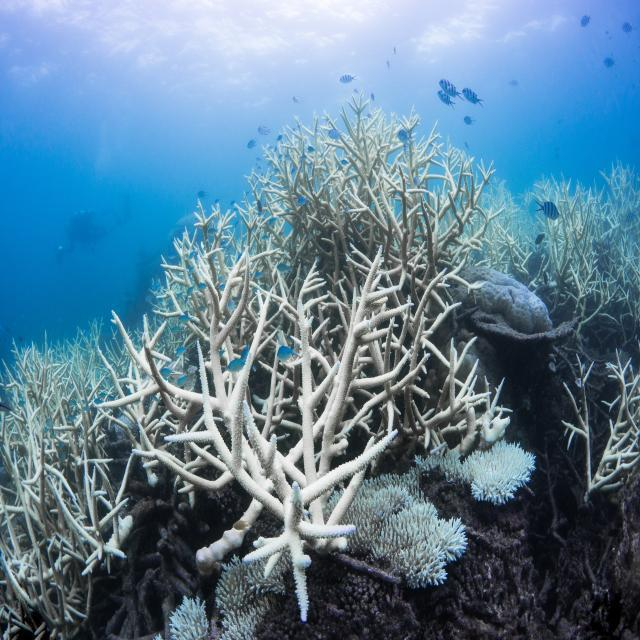Bleached Coral: (278, 118, 484, 416), (166, 258, 355, 571), (7, 360, 131, 635), (367, 458, 454, 590), (599, 339, 640, 491), (162, 597, 207, 640)
Dead Coral: (524, 150, 640, 373), (469, 498, 640, 627)
